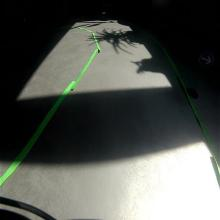right: (198, 49, 216, 72)
